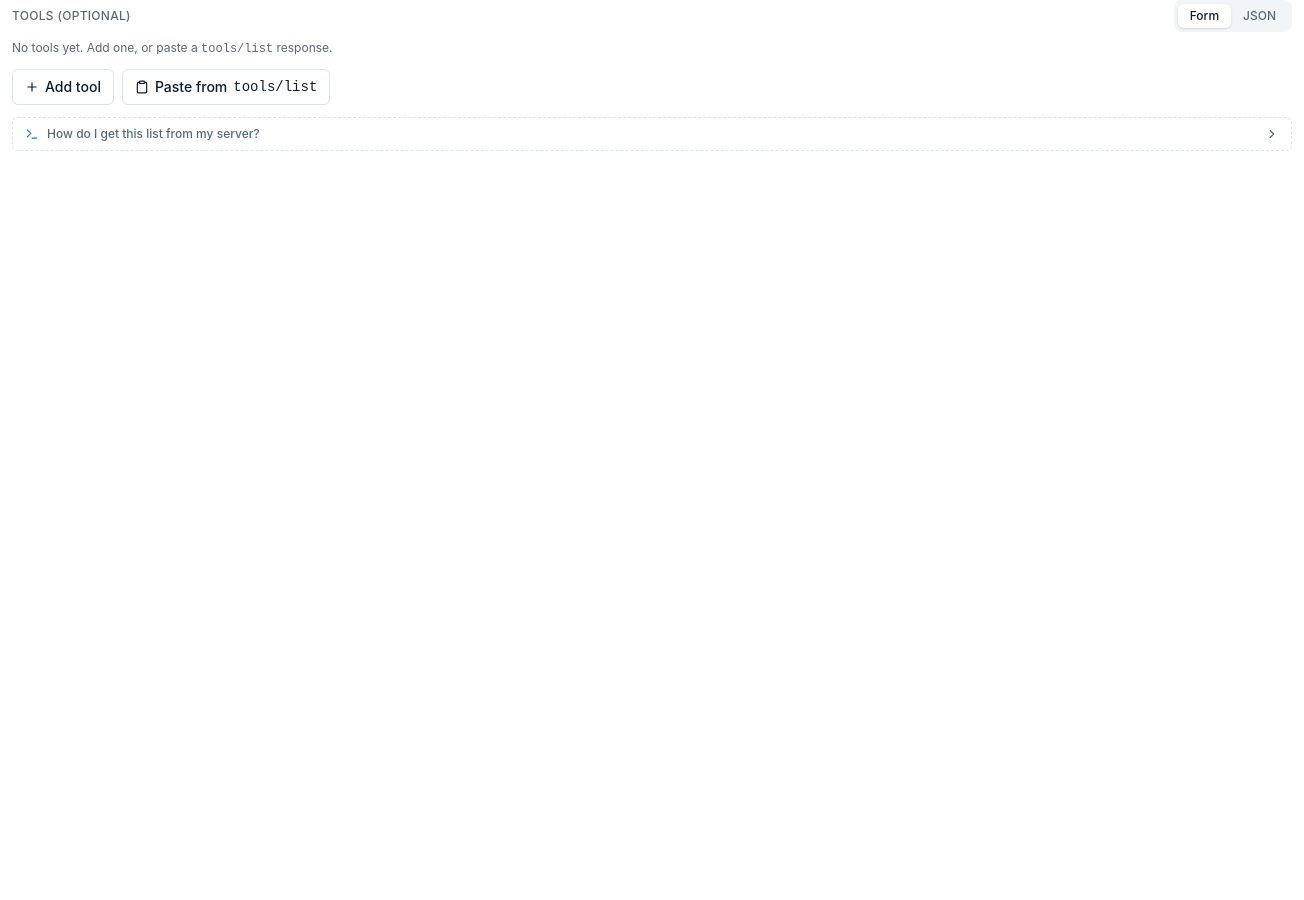
Test: ToolsEditor how-to panel › documents tools/list recipes for Node, curl, and raw stdio users
Expected: the text "curl -isS" is not shown
Click the button "How do I get this list from my server?" at (153, 134), box 12,117 -> 1292,151
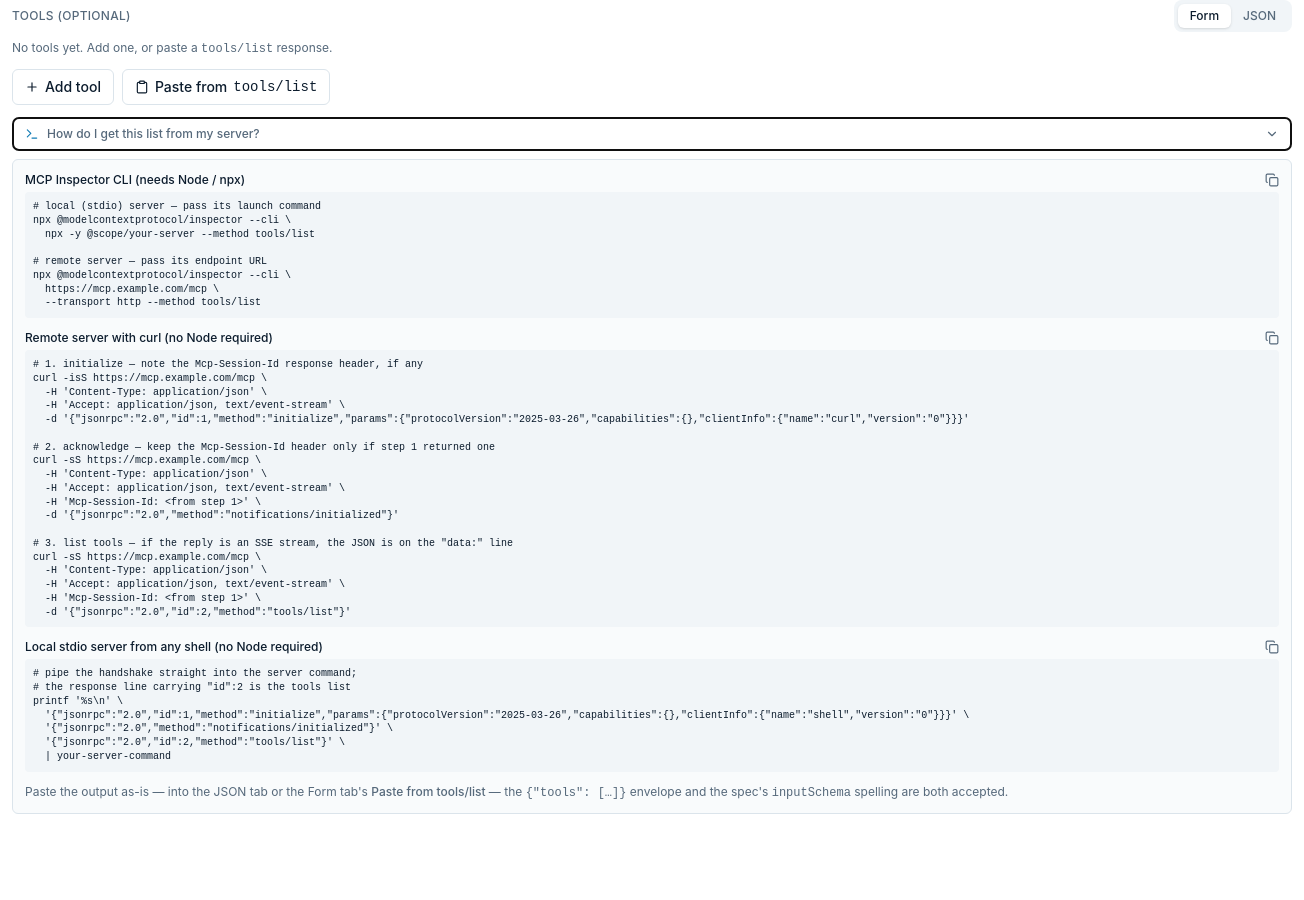
Expected: the button "How do I get this list from my server?" is expanded
Expected: the text "@modelcontextprotocol/inspector --cli" is shown, 33,201 -> 321,308
Expected: the text "curl -isS" is shown, 33,359 -> 969,618
# Toggles closed again.
Click the button "How do I get this list from my server?" at (153, 134), box 12,117 -> 1292,151
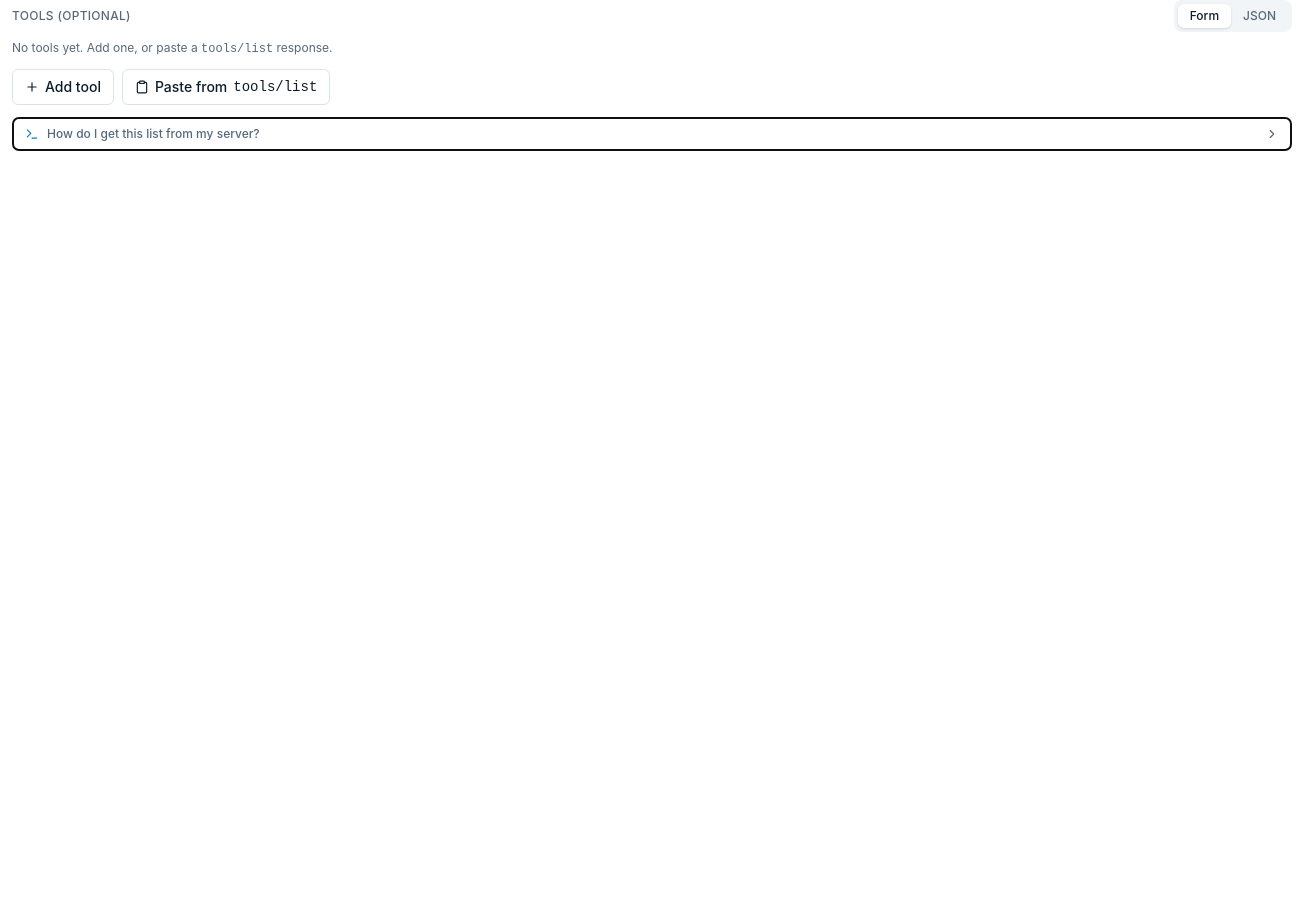
Expected: the text "curl -isS" is gone
